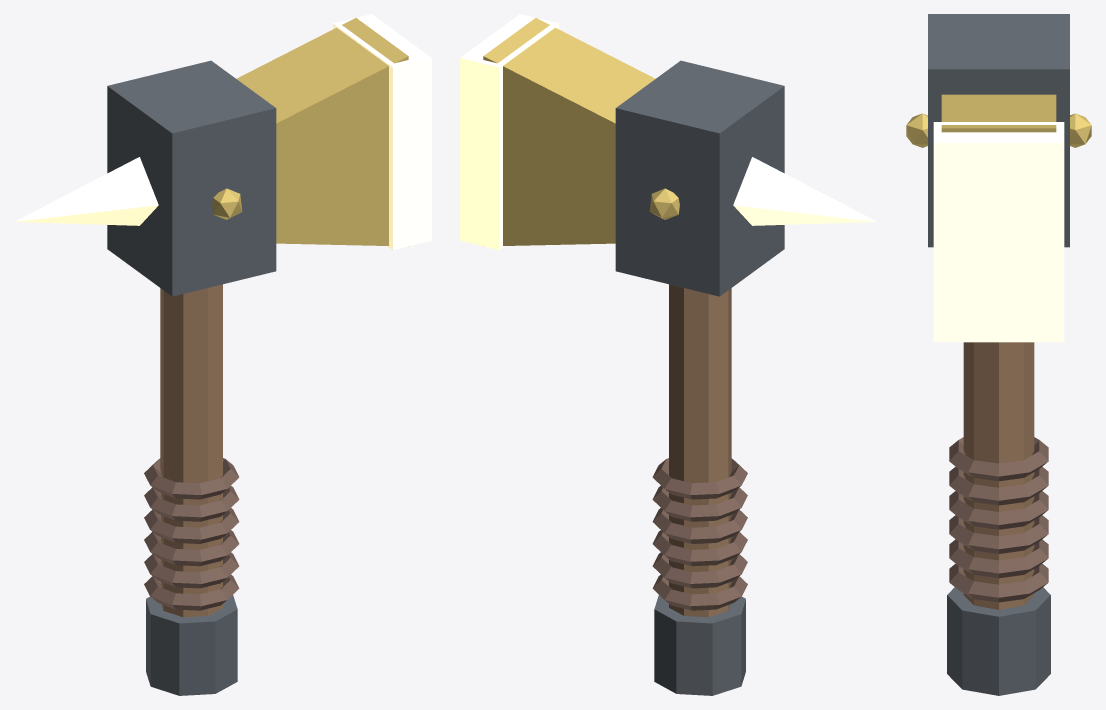
Rendered from golden_small_axe.glb.
3 renders of one model, left to right at view 1: azimuth 30°, elevation 25°; view 2: azimuth 150°, elevation 25°; view 3: azimuth 270°, elevation 25°, orthographic. The views are drawn at different scales.
Visible parts, largest first — view 1: HeadSocket.005, ChoppingBlade.005, HaftCore.005, ChoppingEdge.005, LowerFerrule.005, BackSpike.003, GripWrap_5.005, GripWrap_2.005, GripWrap_1.005, GripWrap_0.005, GripWrap_3.005, GripWrap_4.005 (+1 smaller); view 2: HeadSocket.005, ChoppingBlade.005, HaftCore.005, ChoppingEdge.005, LowerFerrule.005, BackSpike.003, GripWrap_5.005, GripWrap_2.005, GripWrap_1.005, GripWrap_0.005, GripWrap_3.005, GripWrap_4.005 (+1 smaller); view 3: ChoppingEdge.005, HeadSocket.005, HaftCore.005, LowerFerrule.005, ChoppingBlade.005, GripWrap_5.005, GripWrap_2.005, GripWrap_0.005, GripWrap_4.005, GripWrap_1.005, GripWrap_3.005, Rivet_0.005 (+1 smaller).
Part boxes in pixels (bbox=[...]): HeadSocket.005: bbox=[107, 60, 276, 296]; ChoppingBlade.005: bbox=[236, 18, 408, 246]; HaftCore.005: bbox=[160, 284, 222, 617]; ChoppingEdge.005: bbox=[333, 14, 431, 249]; LowerFerrule.005: bbox=[146, 595, 237, 695]; BackSpike.003: bbox=[14, 157, 158, 225]; GripWrap_5.005: bbox=[144, 458, 239, 499]; GripWrap_2.005: bbox=[144, 530, 239, 566]; GripWrap_1.005: bbox=[144, 552, 239, 588]; GripWrap_0.005: bbox=[144, 574, 239, 610]; GripWrap_3.005: bbox=[144, 508, 239, 543]; GripWrap_4.005: bbox=[144, 486, 239, 521]; HeadSocket.005: bbox=[615, 60, 784, 296]; ChoppingBlade.005: bbox=[483, 18, 655, 246]; HaftCore.005: bbox=[669, 284, 731, 617]; ChoppingEdge.005: bbox=[460, 14, 558, 249]; LowerFerrule.005: bbox=[654, 595, 745, 695]; BackSpike.003: bbox=[733, 157, 877, 225]; GripWrap_5.005: bbox=[652, 458, 747, 499]; GripWrap_2.005: bbox=[652, 530, 747, 566]; GripWrap_1.005: bbox=[652, 552, 747, 588]; GripWrap_0.005: bbox=[652, 574, 747, 610]; GripWrap_3.005: bbox=[652, 508, 747, 543]; GripWrap_4.005: bbox=[652, 486, 747, 521]; ChoppingEdge.005: bbox=[933, 122, 1064, 342]; HeadSocket.005: bbox=[928, 14, 1069, 247]; HaftCore.005: bbox=[963, 342, 1034, 609]; LowerFerrule.005: bbox=[947, 587, 1050, 695]; ChoppingBlade.005: bbox=[941, 94, 1056, 132]; GripWrap_5.005: bbox=[949, 437, 1048, 481]; GripWrap_2.005: bbox=[949, 515, 1048, 553]; GripWrap_0.005: bbox=[949, 563, 1048, 602]; GripWrap_4.005: bbox=[949, 466, 1048, 505]; GripWrap_1.005: bbox=[949, 539, 1048, 578]; GripWrap_3.005: bbox=[949, 491, 1048, 529]; Rivet_0.005: bbox=[906, 113, 927, 147].
Size of the model in its own units: 0.895 by 1.31 by 0.3395.
